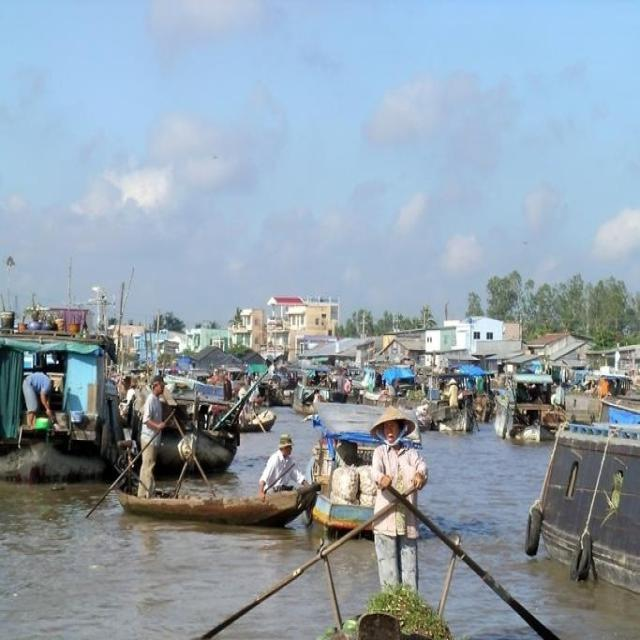boat: (0, 333, 122, 499), (304, 418, 420, 545), (107, 478, 320, 533), (147, 366, 235, 482), (499, 366, 561, 454), (408, 390, 486, 440)
